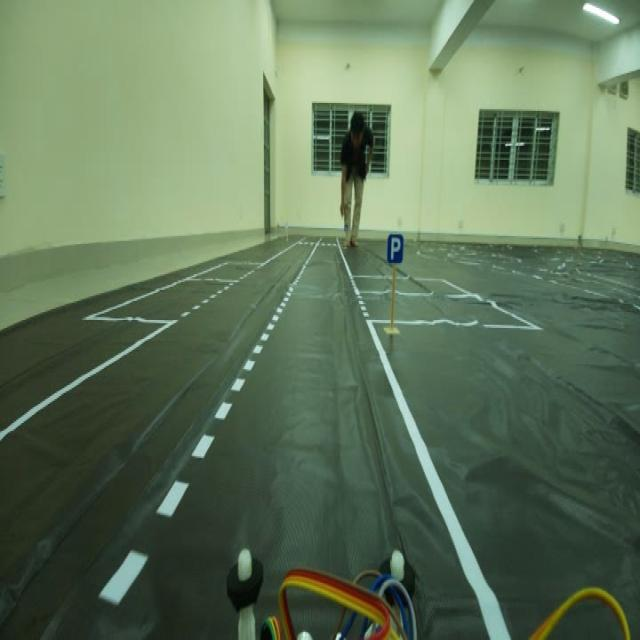parking: (382, 230, 407, 268)
